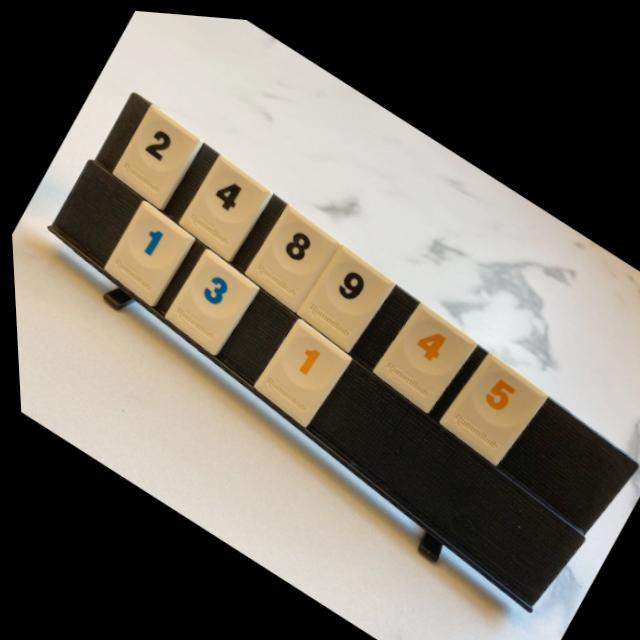black_2: (111, 102, 202, 207)
black_4: (177, 152, 270, 257)
black_8: (242, 200, 338, 307)
black_9: (294, 239, 392, 347)
blue_1: (101, 199, 192, 304)
blue_3: (162, 246, 256, 352)
orange_1: (250, 314, 348, 423)
orange_4: (370, 296, 474, 406)
orange_5: (435, 345, 543, 457)
